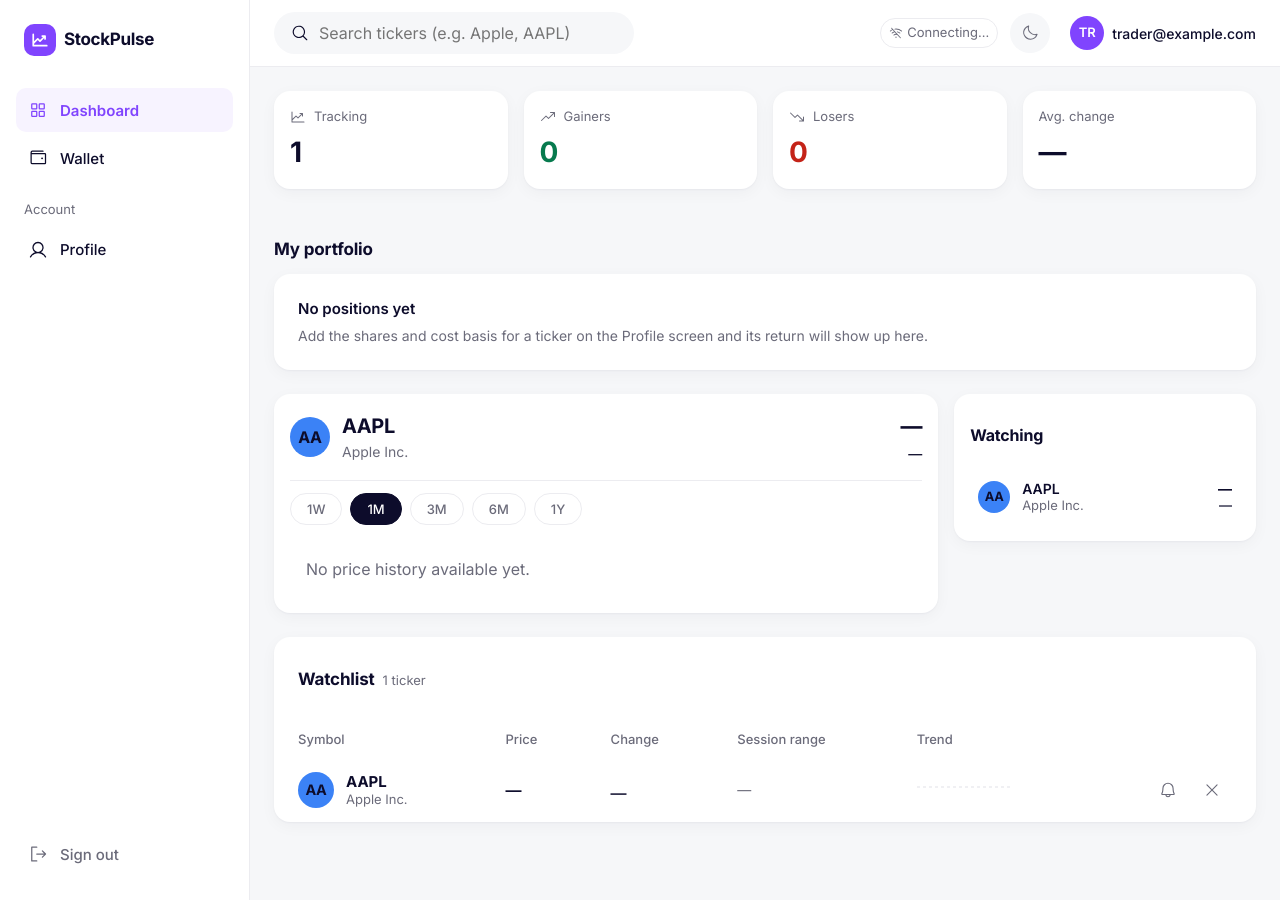
Test: App — creating a price alert › shows an error toast if createAlert fails
expect the 1st text "AAPL" is shown: met, box [342, 414, 395, 438]
Click the button named "Set a price alert for AAPL" at (1168, 790), box [1148, 770, 1188, 810]
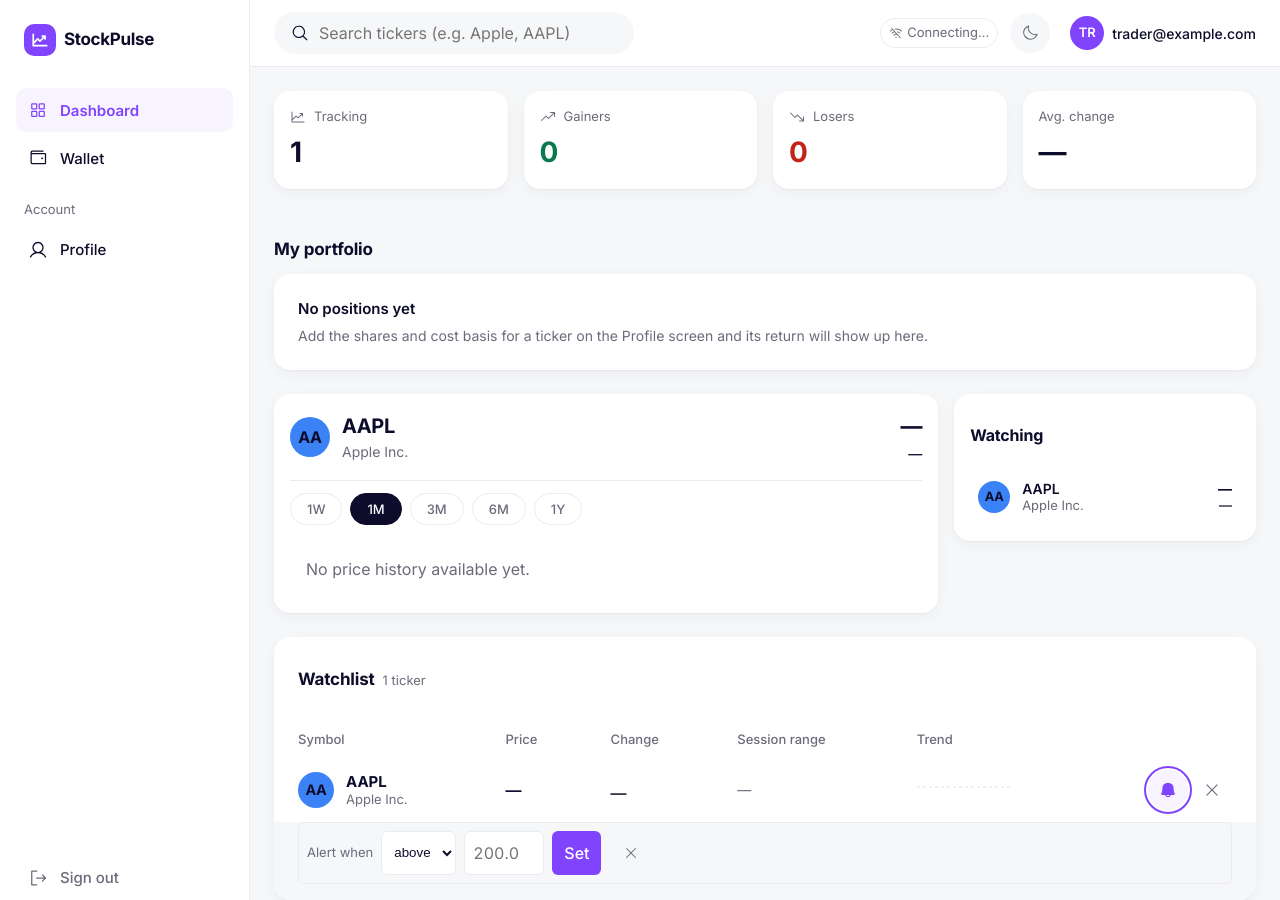
Type "200" into the number field named "Price threshold for AAPL alert" at (504, 853), box [464, 831, 544, 875]
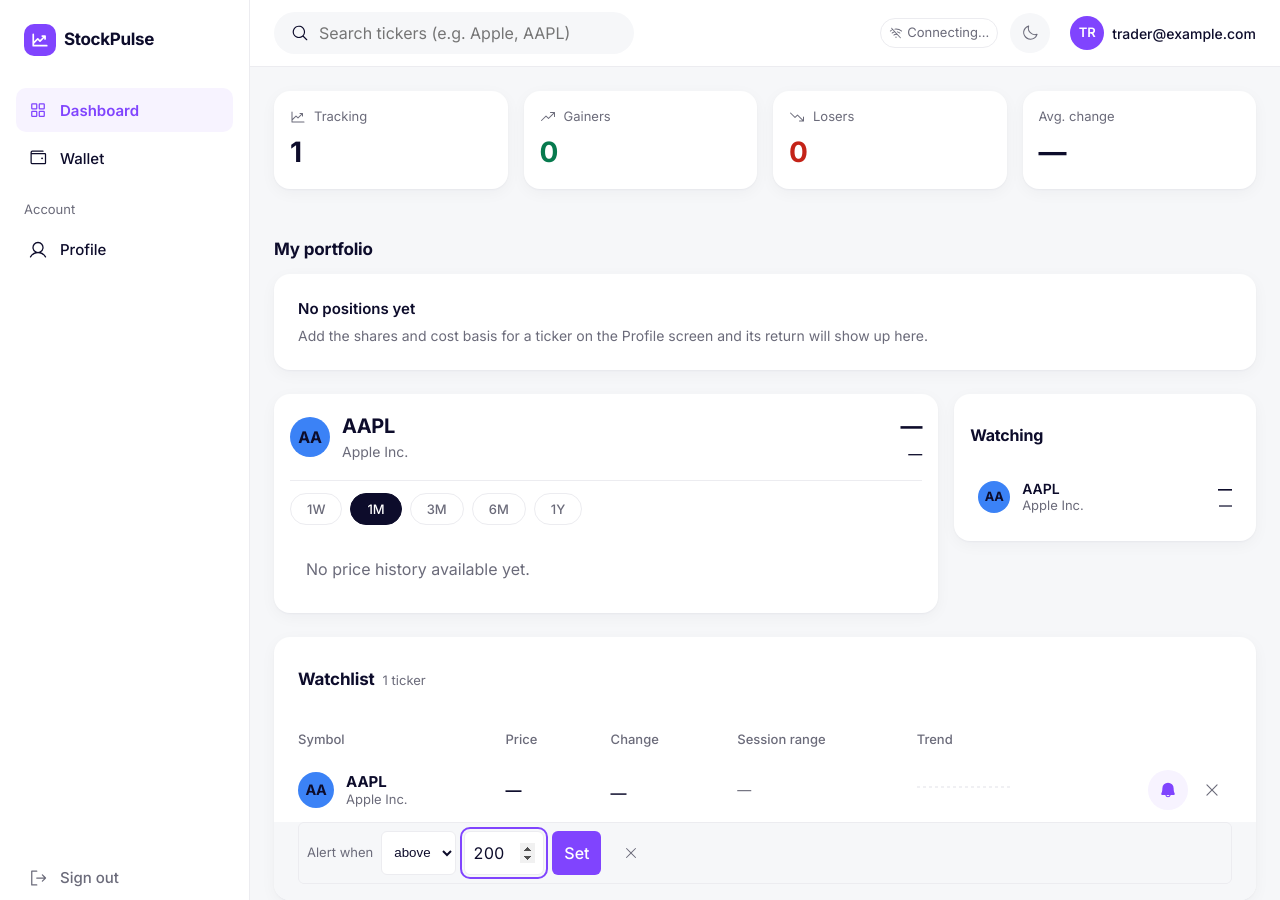
Click the button "Set" at (577, 853), box [552, 831, 602, 875]
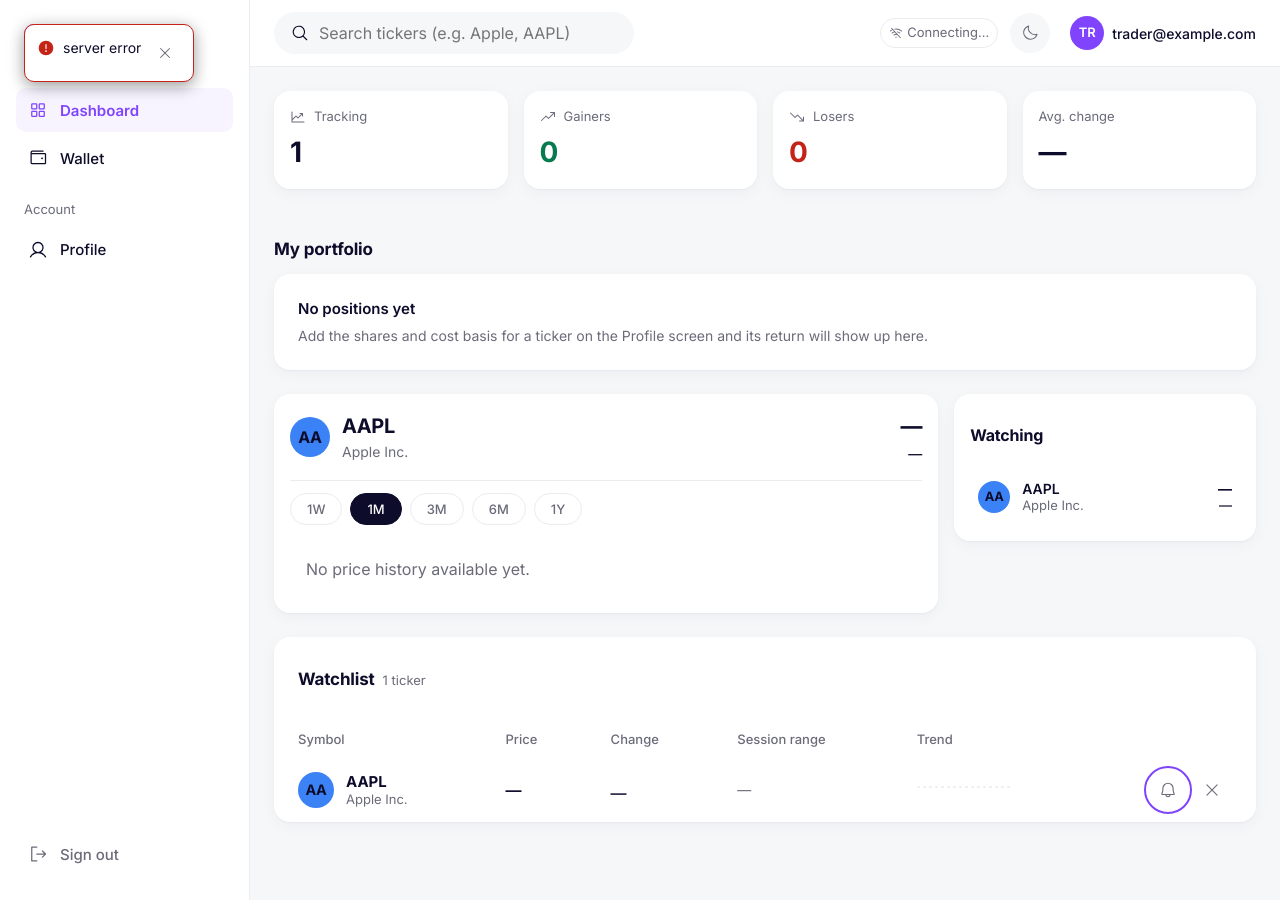
expect the message "server error" is shown: met, box [24, 24, 194, 82]
